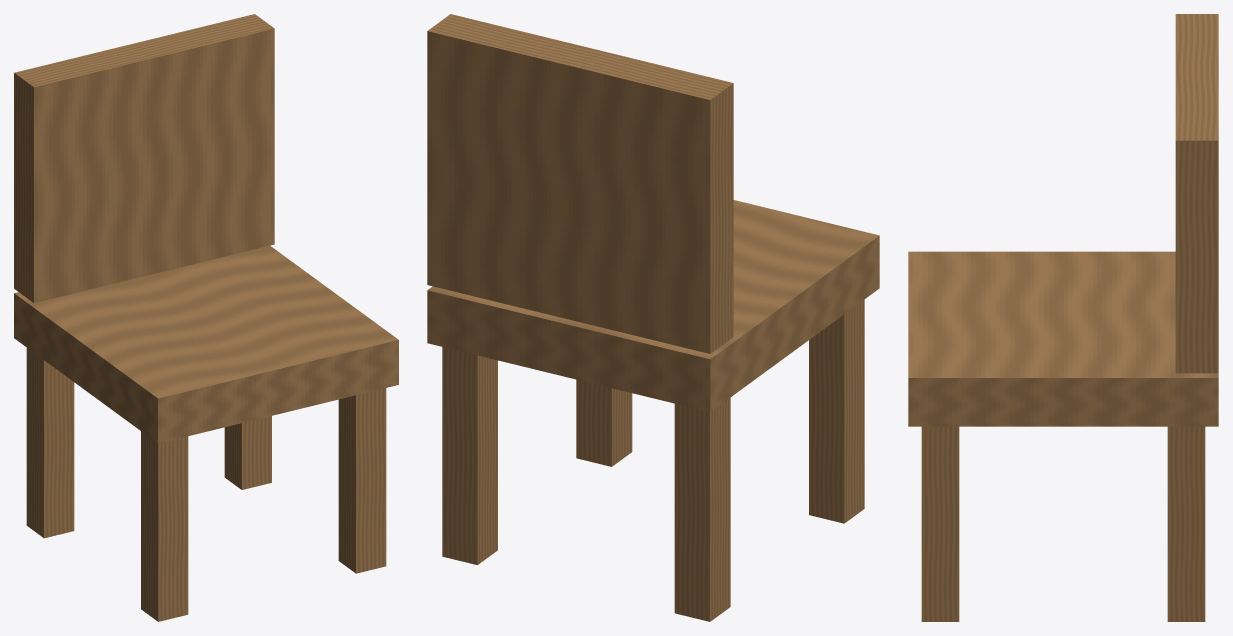
The picture shows the model from 3 angles, left to right: view 1: azimuth 30°, elevation 25°; view 2: azimuth 150°, elevation 25°; view 3: azimuth 270°, elevation 25°; orthographic projection. The views are drawn at different scales.
Parts seen in each view (by area): view 1: Eichenstuhl; view 2: Eichenstuhl; view 3: Eichenstuhl.
Part boxes in pixels (x1,y1,x2,y2): Eichenstuhl: (14,14,398,621); Eichenstuhl: (427,14,879,621); Eichenstuhl: (908,14,1218,621).
Bounding box in the file's own units: 0.56 × 1 × 0.58.
1 material, 1 textured.
